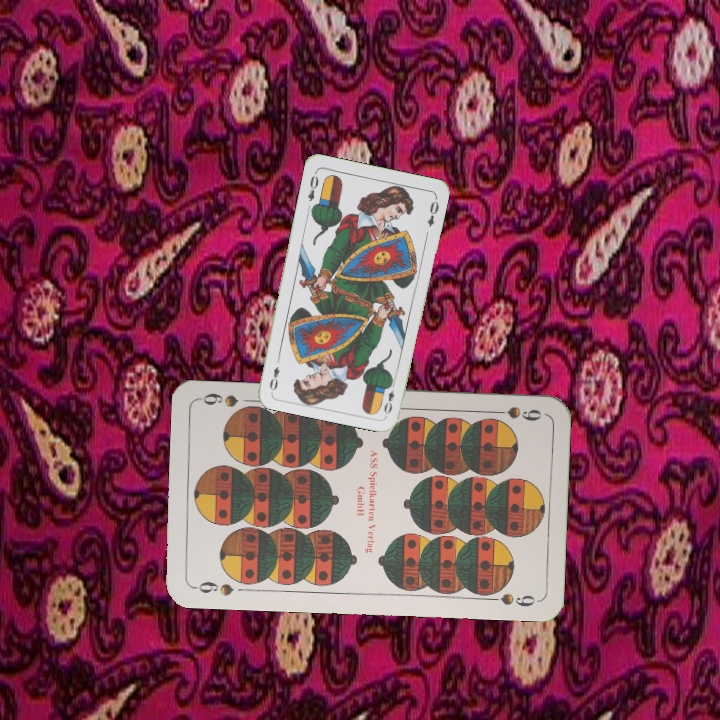EO: (380, 377, 398, 417), (304, 168, 321, 204)
S9: (486, 402, 544, 424), (189, 577, 236, 598)
